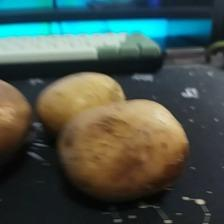Damaged potato: (58, 97, 190, 202), (0, 78, 33, 156)
Potato: (39, 71, 127, 130)
